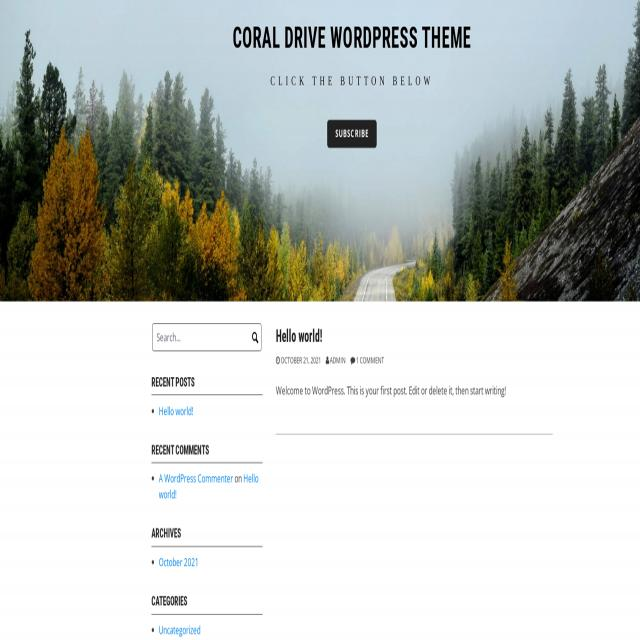button: (327, 120, 377, 148)
field: (152, 323, 262, 351), (252, 332, 258, 344)
